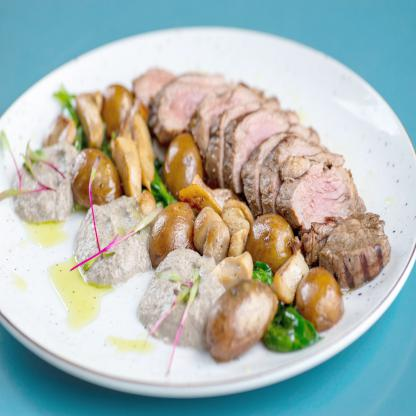Carne: (223, 106, 295, 194), (260, 136, 332, 210), (242, 129, 308, 208), (307, 212, 388, 276), (279, 162, 357, 226)
